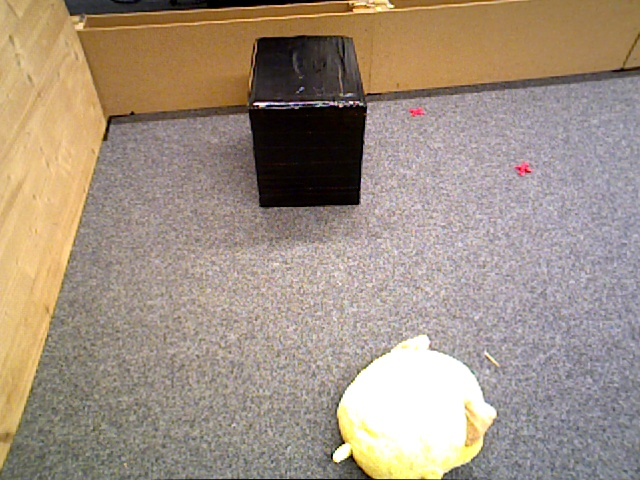grasp: (336, 349, 489, 478)
push: (249, 35, 367, 208)
